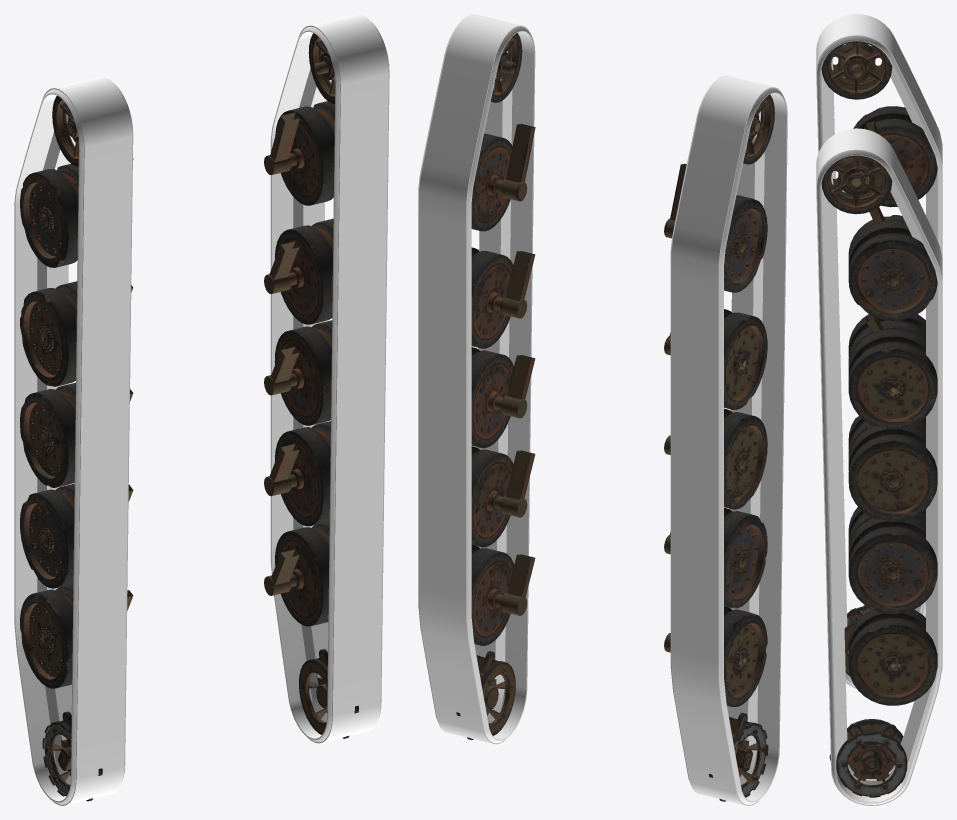
File: Chassis_01.glb
The picture shows the model from 3 angles, left to right: view 1: azimuth 30°, elevation 25°; view 2: azimuth 150°, elevation 25°; view 3: azimuth 270°, elevation 25°; orthographic projection. The views are drawn at different scales.
Parts seen in each view (by area): view 1: set_0_group_0, set_1_group_0, set_3_group_0, set_2_group_0; view 2: set_0_group_0, set_1_group_0, set_3_group_0, set_2_group_0; view 3: set_3_group_0, set_1_group_0, set_2_group_0, set_0_group_0.
Part boxes in pixels (left/top/right/bottom): set_0_group_0: left=14, top=76, right=133, bottom=805; set_1_group_0: left=270, top=14, right=389, bottom=743; set_3_group_0: left=264, top=33, right=358, bottom=738; set_2_group_0: left=20, top=96, right=133, bottom=801; set_0_group_0: left=670, top=75, right=787, bottom=805; set_1_group_0: left=418, top=14, right=535, bottom=744; set_3_group_0: left=456, top=33, right=535, bottom=739; set_2_group_0: left=664, top=94, right=774, bottom=801; set_3_group_0: left=821, top=155, right=937, bottom=797; set_1_group_0: left=816, top=128, right=942, bottom=805; set_2_group_0: left=821, top=41, right=937, bottom=676; set_0_group_0: left=816, top=14, right=942, bottom=688.
Bounding box in the file's own units: 2.9 × 6.42 × 1.12.
4 materials, 2 textured.
